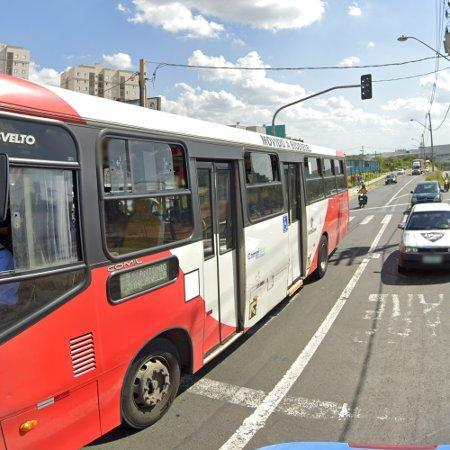buses: (0, 76, 350, 450)
